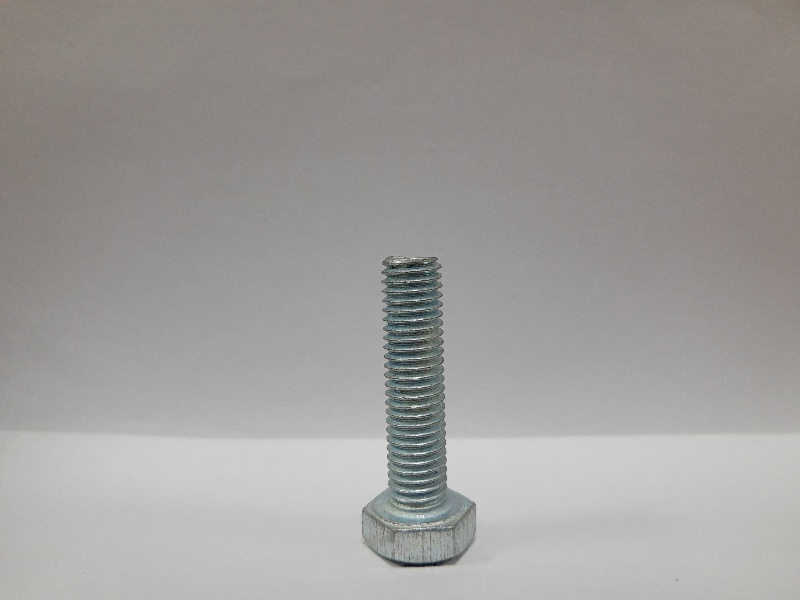pf: (356, 247, 482, 570)
